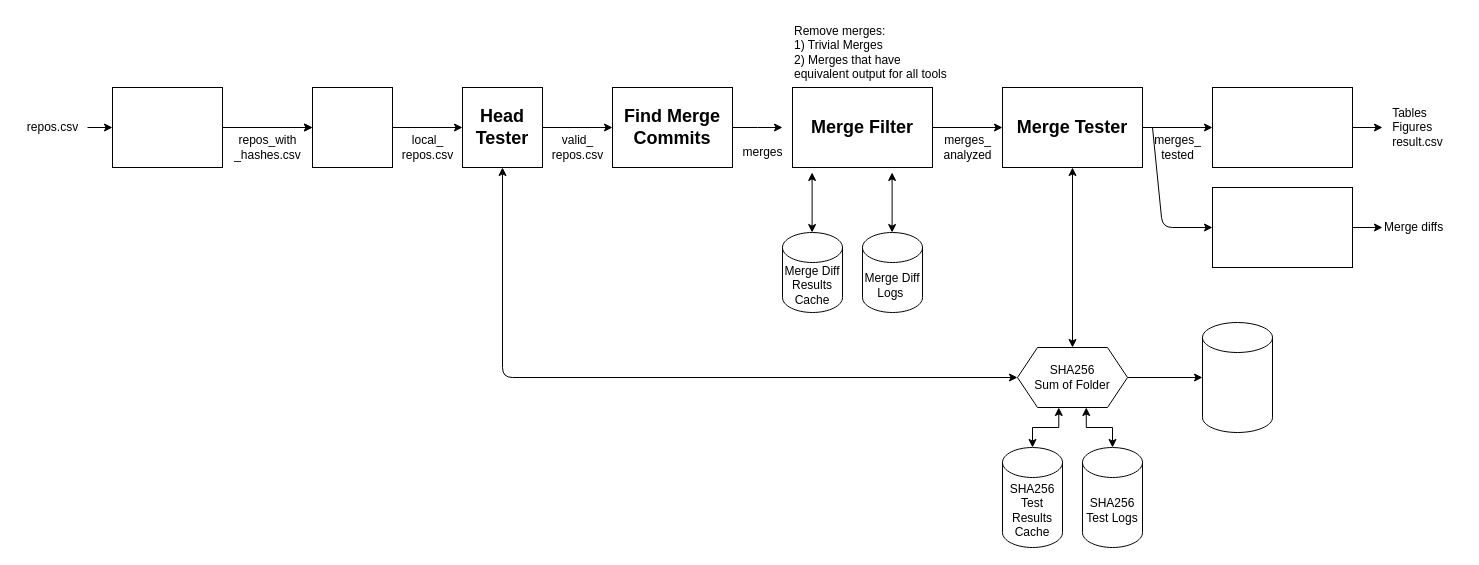
The diagram is 1479 pixels wide and 565 high, and some of its shapes have lost their labels. Here are the shapes that lost their labels. From the top down, the box of each, then its label:
(112, 86, 222, 168): Write Head Hashes For head tester
(312, 86, 392, 168): Split Repos For parallel execution
(1212, 86, 1352, 168): Latex Outpout
(1212, 186, 1352, 268): Merge Differ
(1202, 322, 1272, 432): SHA256 / Commit Conversion Translation Cache
